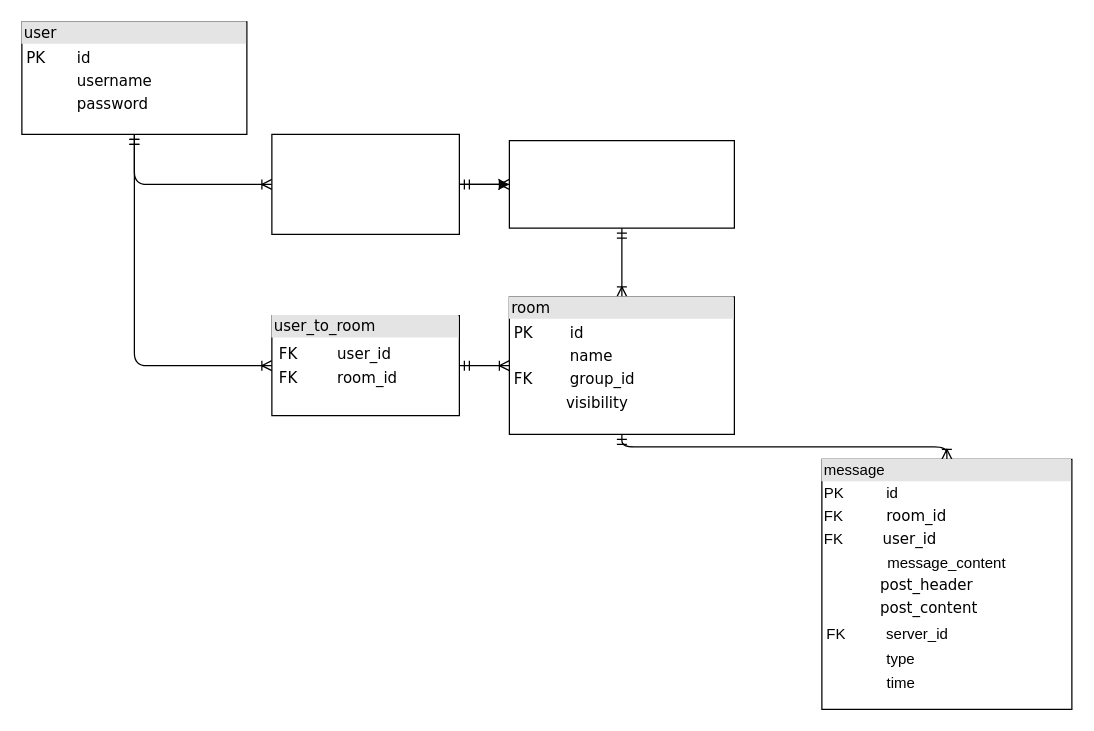
Some shapes in this 1094 by 731 pixel diagram are drawn without their labels. Each missing label, with the box of its shape:
group PK id name: (508, 139, 734, 228)
user_to_group FK user_id FK group_id: (271, 133, 459, 234)
